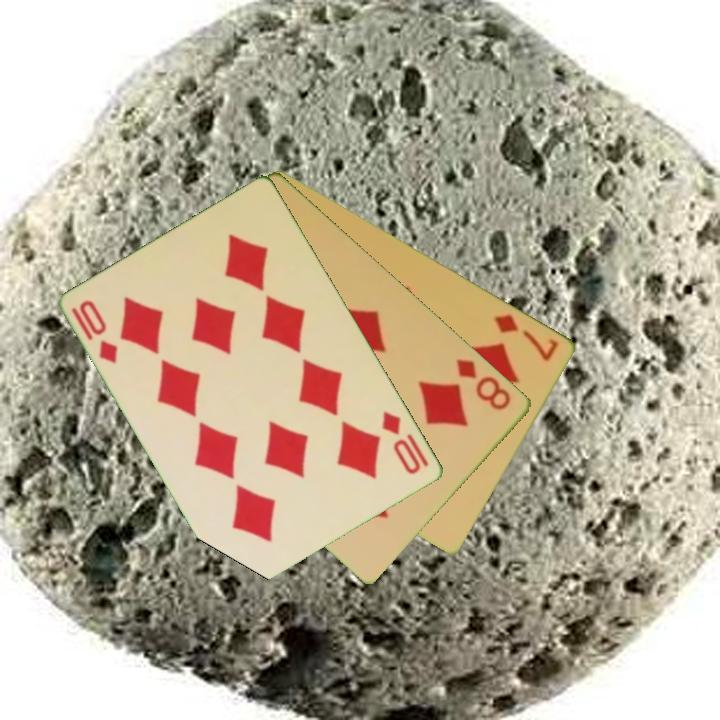10d: (68, 296, 122, 367), (379, 407, 425, 478)
7d: (491, 310, 562, 364)
8d: (453, 355, 515, 413)
